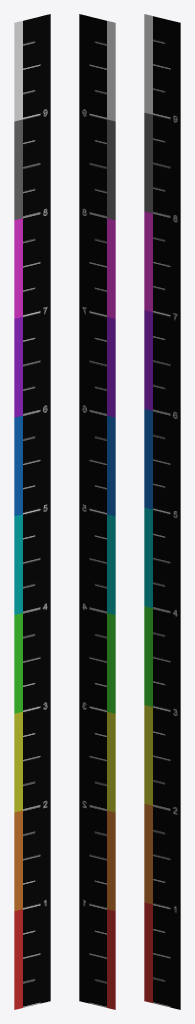
File: regla.glb
3 views of the same model, side by side, from view 1: azimuth 30°, elevation 25°; view 2: azimuth 150°, elevation 25°; view 3: azimuth 330°, elevation 25° (orthographic).
Visible parts, largest first — view 1: Regla; view 2: Regla; view 3: Regla.
Part boxes in pixels (box(x1,y1,x2,y2)): Regla: box(14, 14, 50, 1009); Regla: box(79, 14, 115, 1009); Regla: box(144, 14, 180, 1009).
Bounding box in the file's own units: 0.6723 × 17.56 × 2.94e-08.
Materials: 1 (1 with a texture image).
